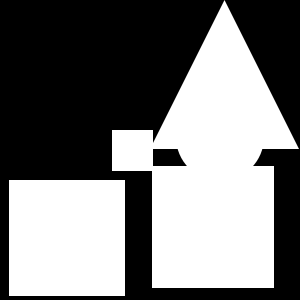circle: (152, 166, 274, 288), (9, 180, 125, 296), (112, 130, 153, 171)
rectangle: (176, 93, 264, 181)
triangle: (150, 0, 299, 149)
